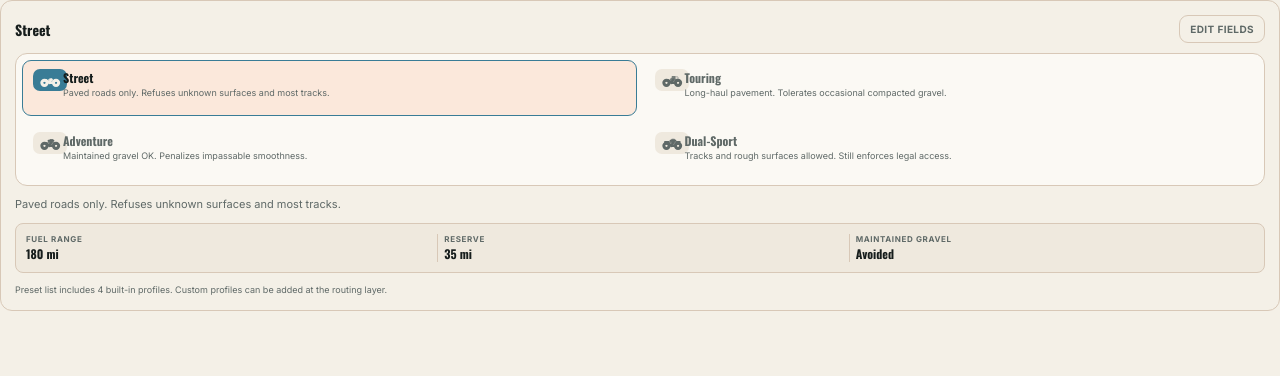
Test: BikeProfilePicker › exposes editable fields (fuel range, reserve, allowMaintainedGravel) when expanded
Click the button with aria-label "edit bike profile fields" at {"x": 1222, "y": 29}, box [1179, 15, 1265, 43]
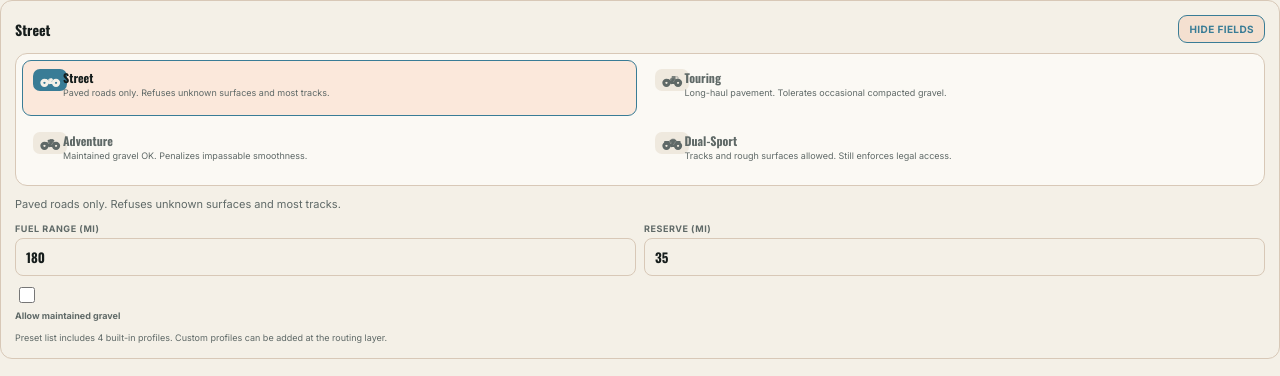
Expected: the number field named "Fuel range in miles" is shown, [15, 238, 636, 276]
Expected: the number field named "Reserve fuel range in miles" is shown, [644, 238, 1265, 276]
Expected: the checkbox labelled "Allow maintained gravel" is shown, [19, 286, 35, 302]
